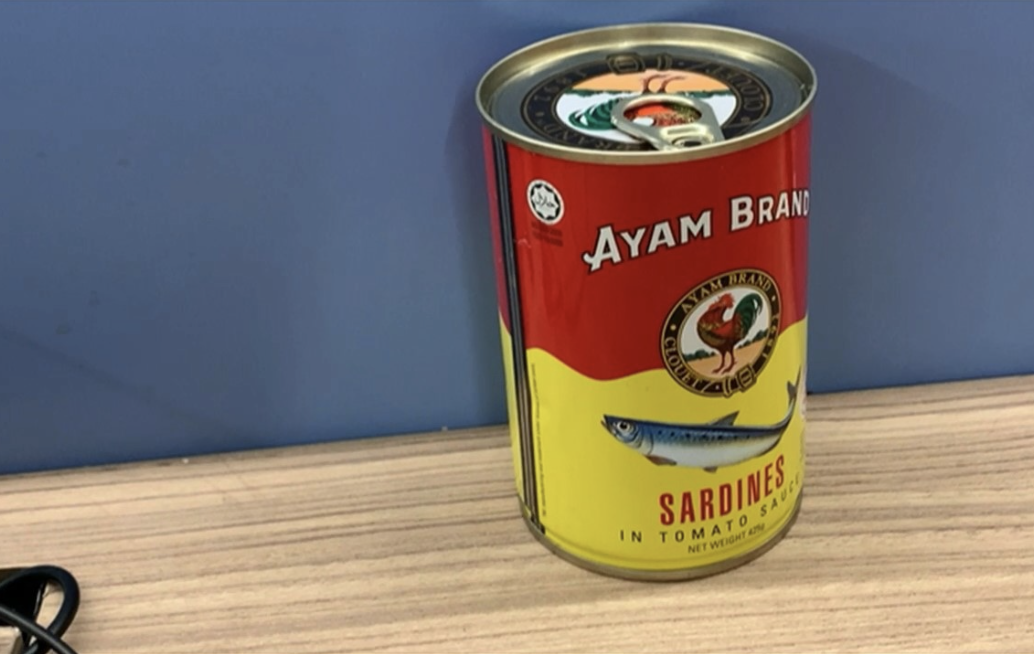sardines_450g: (508, 51, 793, 546)
